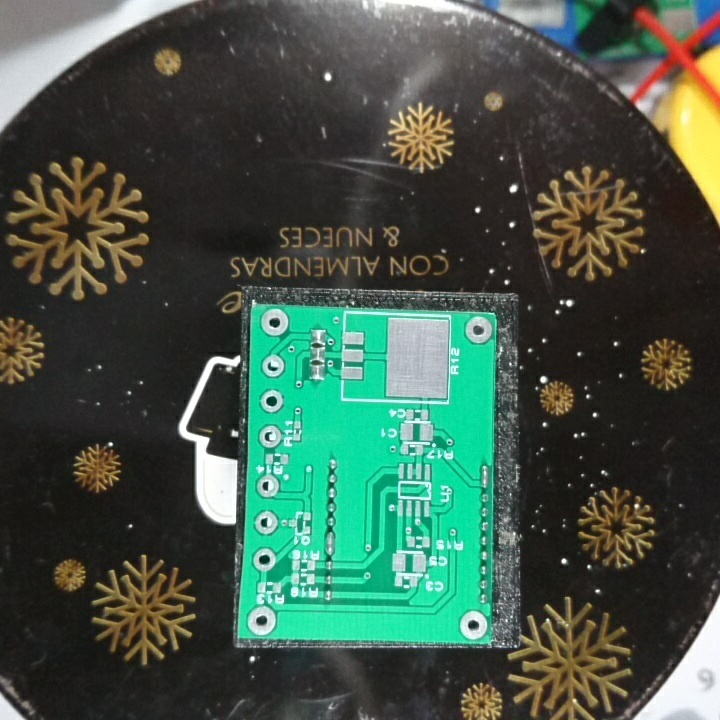F: (455, 609, 492, 640), (246, 605, 279, 637), (253, 468, 284, 502), (464, 314, 496, 346), (259, 306, 290, 338), (251, 510, 281, 539), (257, 388, 286, 413), (259, 354, 287, 379), (258, 423, 283, 451), (251, 549, 279, 571)
P: (321, 528, 339, 556), (478, 462, 492, 489)
